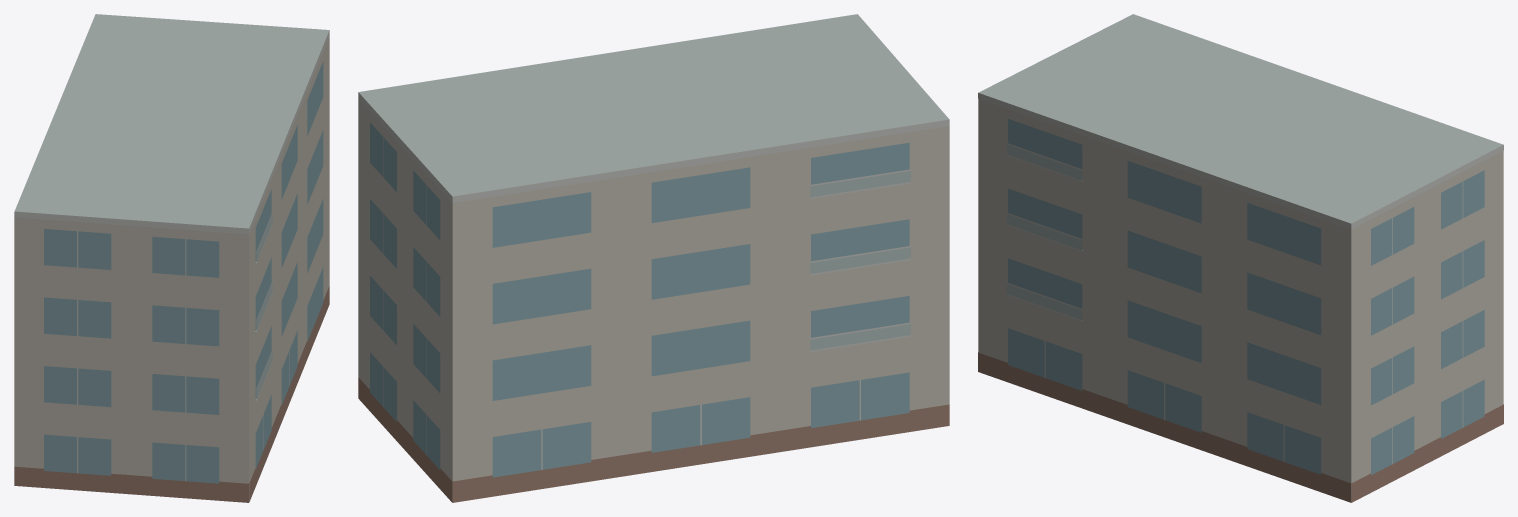
Rendered from survey-upis-32526483.glb.
3 renders of one model, left to right at view 1: azimuth 30°, elevation 25°; view 2: azimuth 150°, elevation 25°; view 3: azimuth 270°, elevation 25°, orthographic. The views are drawn at different scales.
Parts seen in each view (by area): view 1: survey-upis-32526483.tmp; view 2: survey-upis-32526483.tmp; view 3: survey-upis-32526483.tmp.
Part boxes in pixels (box(x1,y1,x2,y2)): survey-upis-32526483.tmp: box(14, 14, 329, 502); survey-upis-32526483.tmp: box(358, 14, 949, 502); survey-upis-32526483.tmp: box(978, 14, 1503, 502).
Size of the model in its own units: 18.42 by 11.43 by 19.51.
